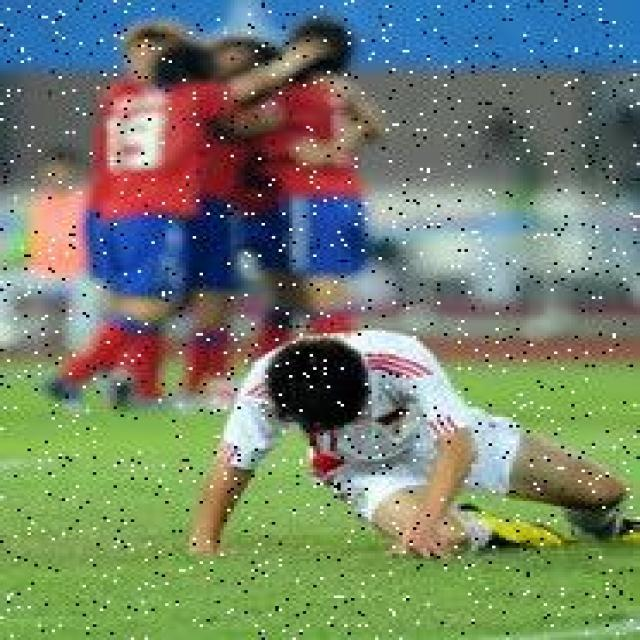fall: (197, 328, 606, 548)
